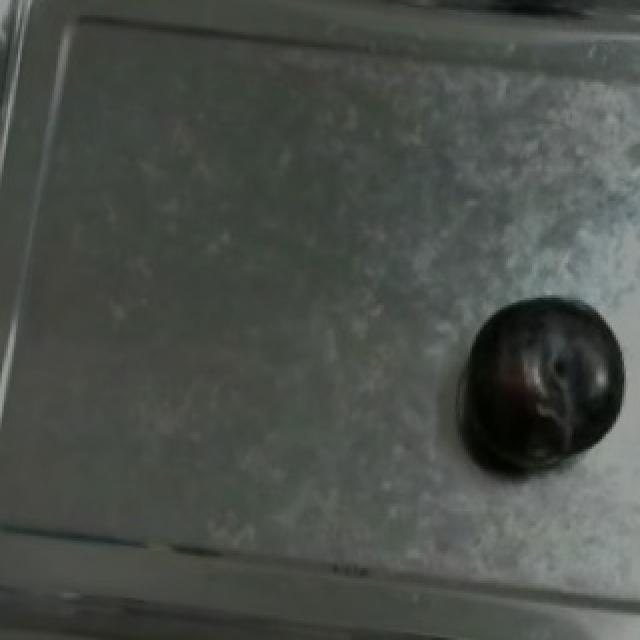Fruit: (448, 278, 640, 486)
